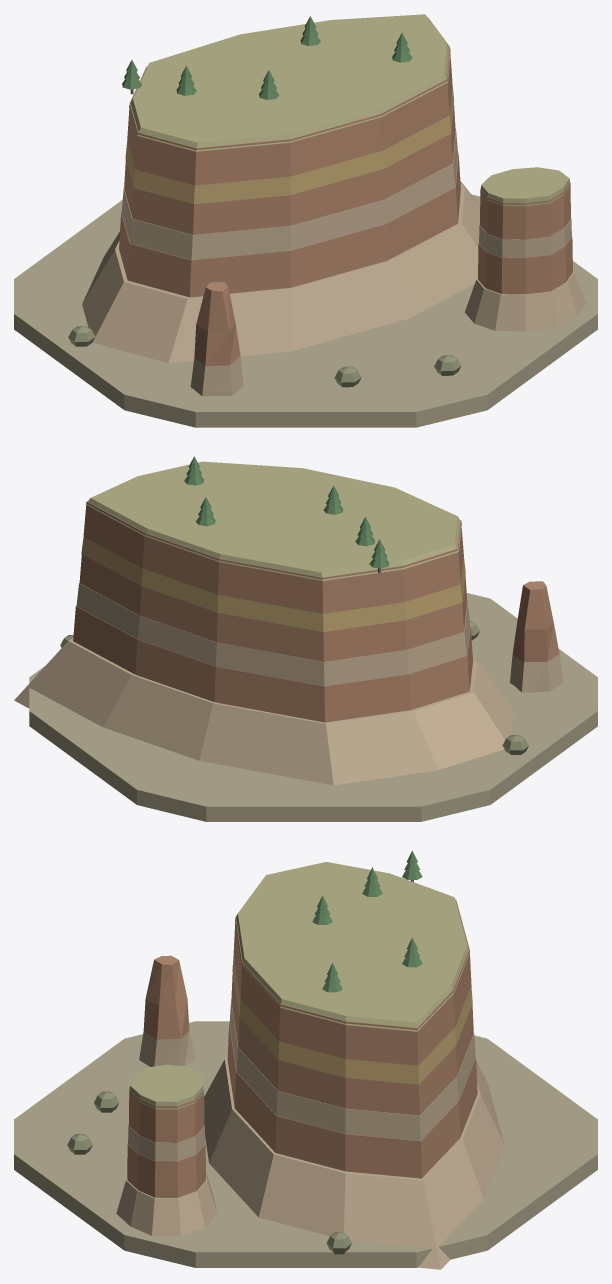
Rendered from the-grand-mesa.glb.
3 renders of one model, top to bottom at view 1: azimuth 30°, elevation 25°; view 2: azimuth 150°, elevation 25°; view 3: azimuth 270°, elevation 25°, orthographic. The views are drawn at different scales.
Visible parts, largest first — view 1: LOD0; view 2: LOD0; view 3: LOD0.
Boxes of the visible parts, x1=… form: LOD0: x1=14, y1=14, x2=597, y2=427; LOD0: x1=14, y1=456, x2=597, y2=821; LOD0: x1=14, y1=850, x2=597, y2=1269.
Size of what is drawn, in the model's own units: 1.66 by 0.808 by 1.76.
